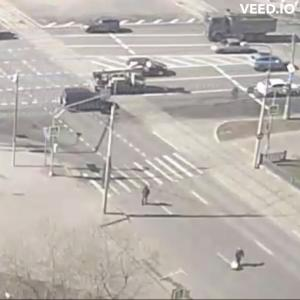car: (206, 15, 280, 41), (59, 86, 118, 116), (92, 72, 153, 96), (125, 56, 180, 76), (256, 78, 300, 98), (78, 18, 126, 36), (213, 40, 258, 56), (254, 57, 287, 74)
